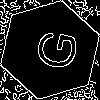G: (25, 25, 80, 73)
